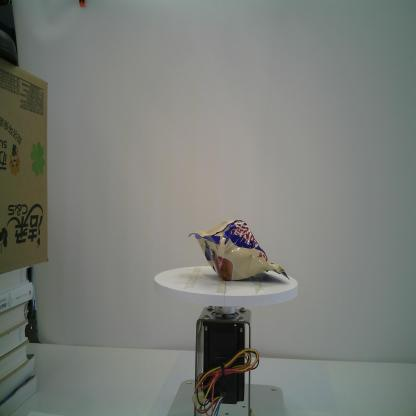Dessert: (188, 220, 290, 284)
